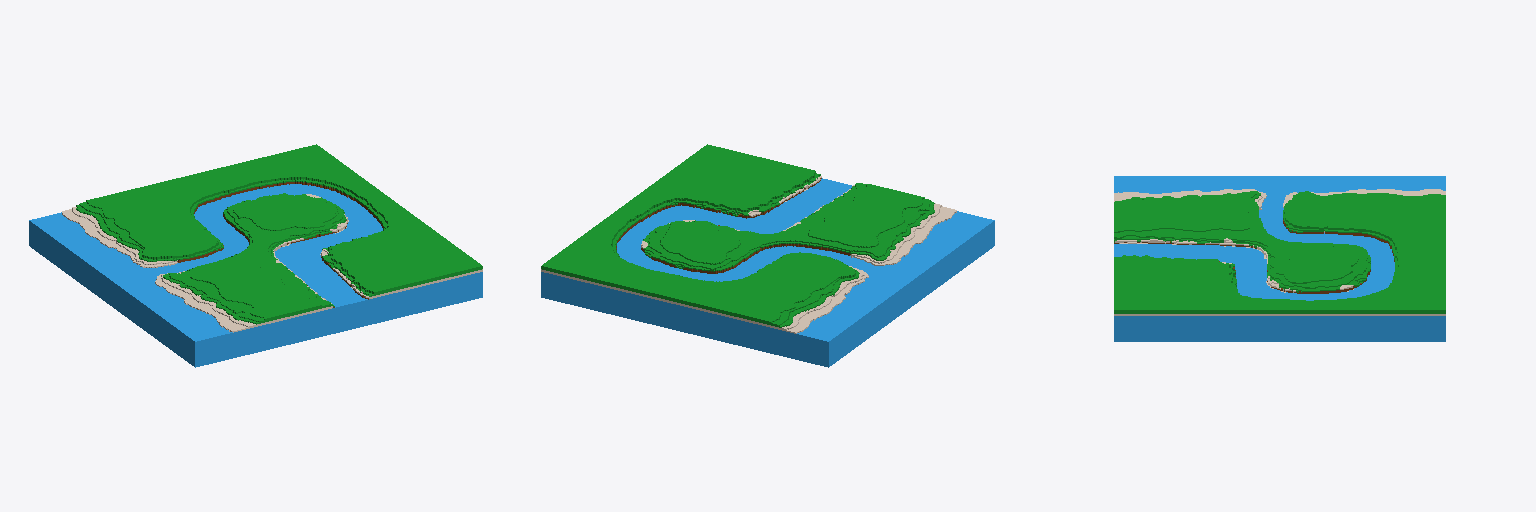
3 renders of one model, left to right at view 1: azimuth 30°, elevation 25°; view 2: azimuth 150°, elevation 25°; view 3: azimuth 270°, elevation 25°, orthographic.
Visible parts, largest first — view 1: object 1; view 2: object 1; view 3: object 1.
Boxes of the visible parts, <box> form: object 1: <box>29,144,482,367</box>; object 1: <box>541,144,994,367</box>; object 1: <box>1114,176,1445,341</box>.
Bounding box in the file's own units: 25.6 × 2.7 × 25.6.
Materials: 1 (1 with a texture image).